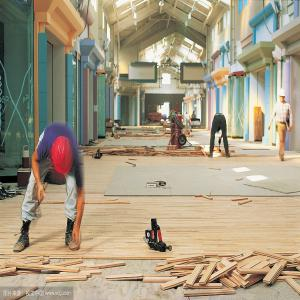red: (52, 137, 75, 176)
white: (279, 89, 287, 104)
